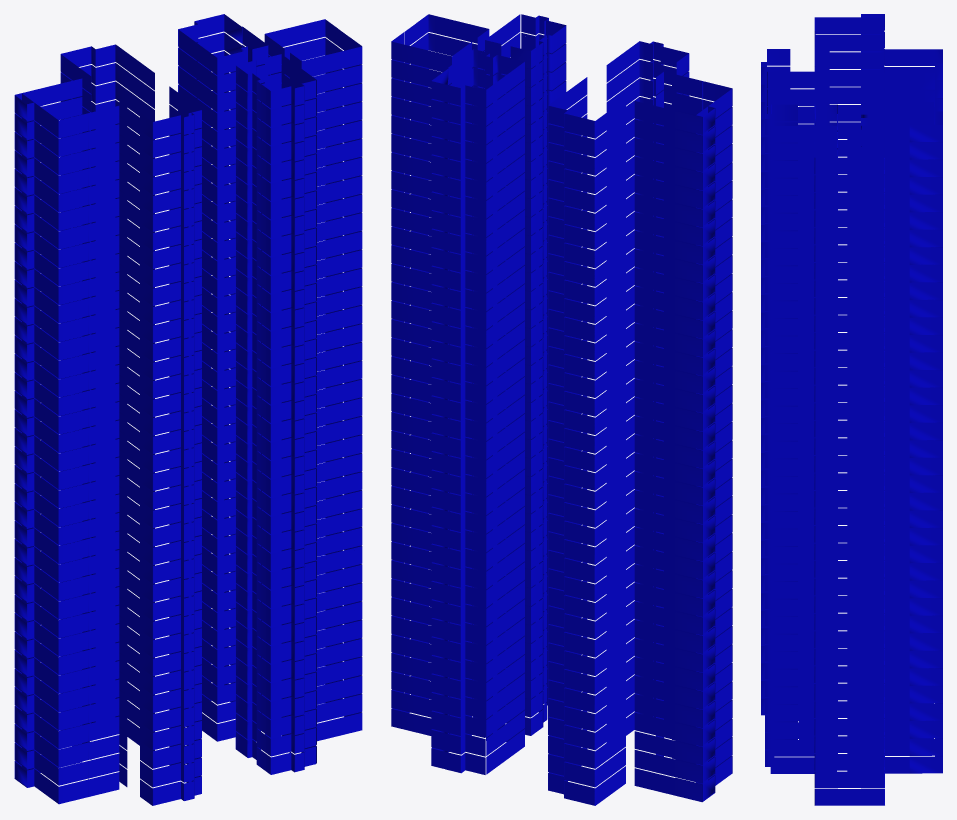
Rendered from Towers_Final - Copy.glb.
3 renders of one model, left to right at view 1: azimuth 30°, elevation 25°; view 2: azimuth 150°, elevation 25°; view 3: azimuth 270°, elevation 25°, orthographic. The views are drawn at different scales.
Visible parts, largest first — view 1: no part large enough to name; view 2: no part large enough to name; view 3: Tower_A_36_3606_Architecture_Walls_Box3816, Tower_A_00_004_Architecture_Walls_Box292, Tower_A_02_204_Architecture_Walls_Box492, Tower_A_07_704_Architecture_Walls_Box992, Tower_A_09_904_Architecture_Walls_Box1192, Tower_A_11_1104_Architecture_Walls_Box1392, Tower_A_13_1304_Architecture_Walls_Box1592, Tower_A_20_2004_Architecture_Walls_Box2292, Tower_A_22_2204_Architecture_Walls_Box2492, Tower_A_24_2404_Architecture_Walls_Box2692, Tower_A_26_2604_Architecture_Walls_Box2892, Tower_A_31_3104_Architecture_Walls_Box3392 (+204 smaller).
Boxes of the visible parts, box(x1,y1,x2,y2) form: Tower_A_36_3606_Architecture_Walls_Box3816: box(847, 129, 884, 146); Tower_A_00_004_Architecture_Walls_Box292: box(909, 756, 942, 773); Tower_A_02_204_Architecture_Walls_Box492: box(909, 721, 942, 738); Tower_A_07_704_Architecture_Walls_Box992: box(909, 633, 942, 650); Tower_A_09_904_Architecture_Walls_Box1192: box(909, 598, 942, 615); Tower_A_11_1104_Architecture_Walls_Box1392: box(909, 563, 942, 580); Tower_A_13_1304_Architecture_Walls_Box1592: box(909, 528, 942, 545); Tower_A_20_2004_Architecture_Walls_Box2292: box(909, 405, 942, 422); Tower_A_22_2204_Architecture_Walls_Box2492: box(909, 370, 942, 387); Tower_A_24_2404_Architecture_Walls_Box2692: box(909, 335, 942, 352); Tower_A_26_2604_Architecture_Walls_Box2892: box(909, 300, 942, 317); Tower_A_31_3104_Architecture_Walls_Box3392: box(909, 212, 942, 229).
Bounding box in the file's own units: 2076 × 4365 × 1109.
